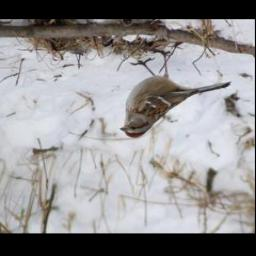Sparrow: (116, 47, 230, 142)
